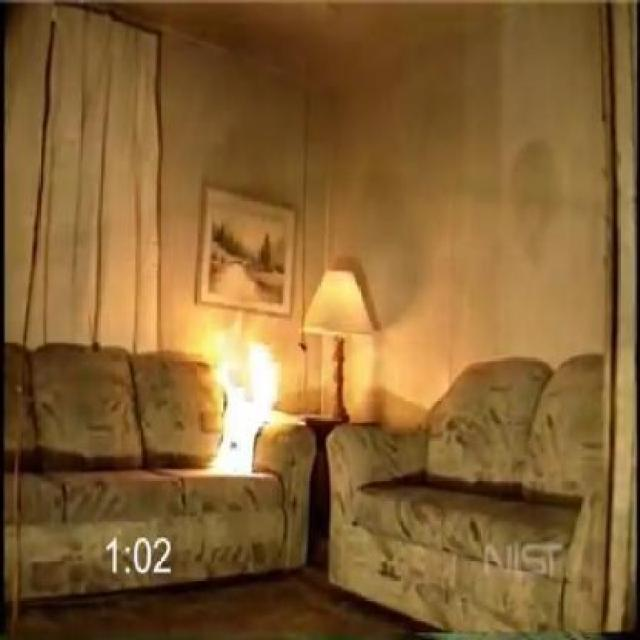Fire: (176, 317, 286, 477)
Smoke: (184, 3, 434, 334)
